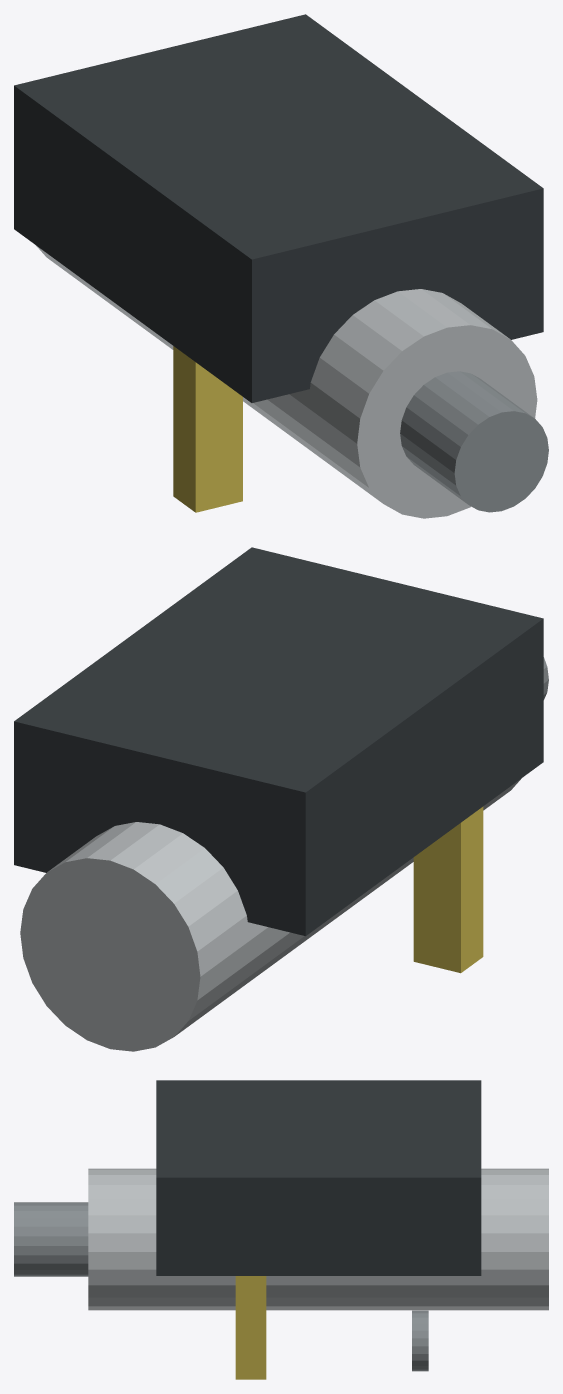
The model's file is ARI_Bouteille_Dosseret_SDIS37.glb.
The picture shows the model from 3 angles, top to bottom: view 1: azimuth 30°, elevation 25°; view 2: azimuth 150°, elevation 25°; view 3: azimuth 270°, elevation 25°; orthographic projection. The views are drawn at different scales.
Parts seen in each view (by area): view 1: 02_Dosseret, 00_Bouteille_air, 01_Col_bouteille, 03_Sangle_gauche; view 2: 02_Dosseret, 00_Bouteille_air, 03_Sangle_gauche; view 3: 02_Dosseret, 00_Bouteille_air, 01_Col_bouteille, 04_Sangle_droite, 05_Manometre.
Boxes of the visible parts, <box> form: 02_Dosseret: <box>14,14,543,402</box>; 00_Bouteille_air: <box>36,245,537,518</box>; 01_Col_bouteille: <box>400,371,548,512</box>; 03_Sangle_gauche: <box>173,346,242,512</box>; 02_Dosseret: <box>14,547,543,936</box>; 00_Bouteille_air: <box>20,778,521,1051</box>; 03_Sangle_gauche: <box>413,806,483,973</box>; 02_Dosseret: <box>156,1080,481,1275</box>; 00_Bouteille_air: <box>88,1168,548,1310</box>; 01_Col_bouteille: <box>14,1202,88,1276</box>; 04_Sangle_droite: <box>235,1276,266,1379</box>; 05_Manometre: <box>412,1310,428,1371</box>.
Bounding box in the file's own units: 0.355 × 0.33 × 0.79.
